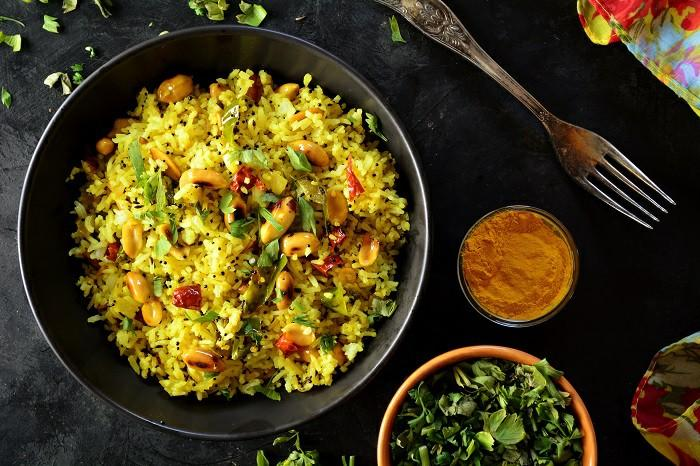Poha: (63, 68, 412, 398)
